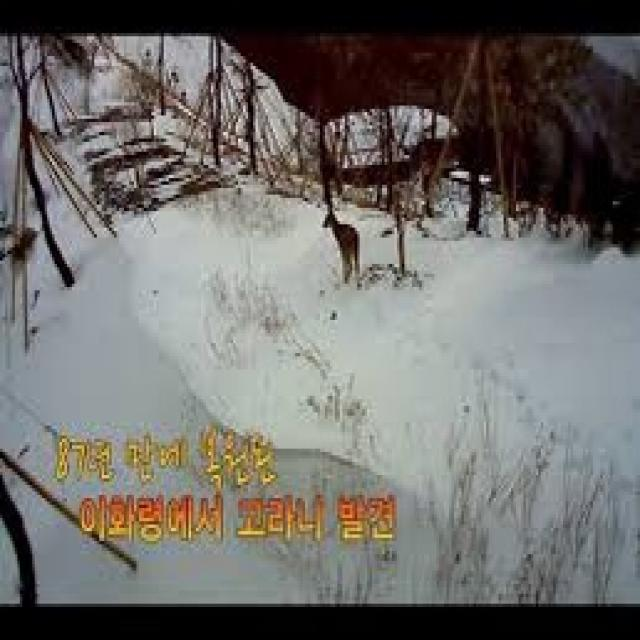elk: (288, 199, 371, 311)
